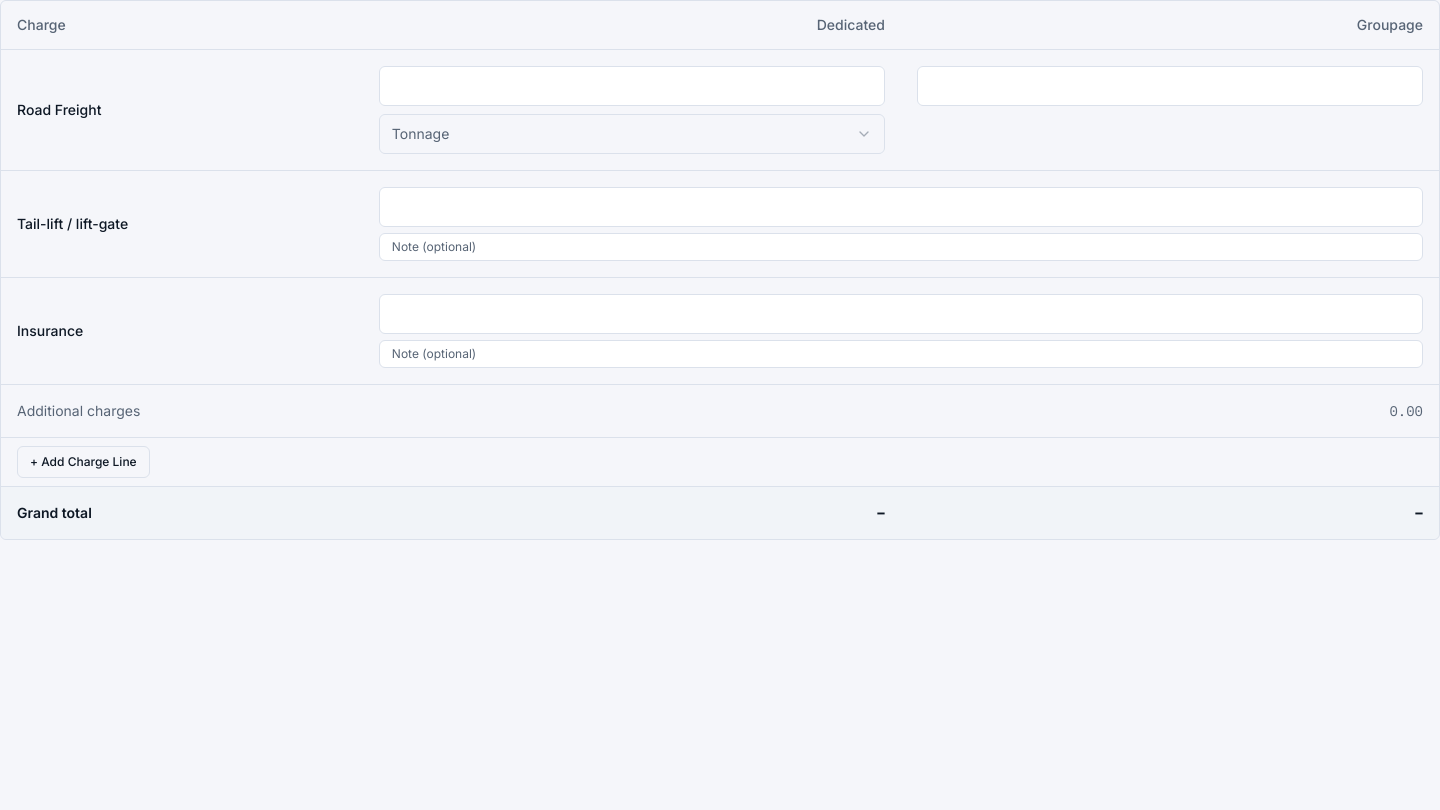
Test: ChargeMatrix — "Add Charge Line" (design D1/#6) › a custom row's amount folds into the Additional-charges subtotal and every variant's Grand total
The image size is (1440, 810).
Type "500" into the number field named "road freight — dedicated".
click(632, 86); type("500")  # box [379,66,885,106]
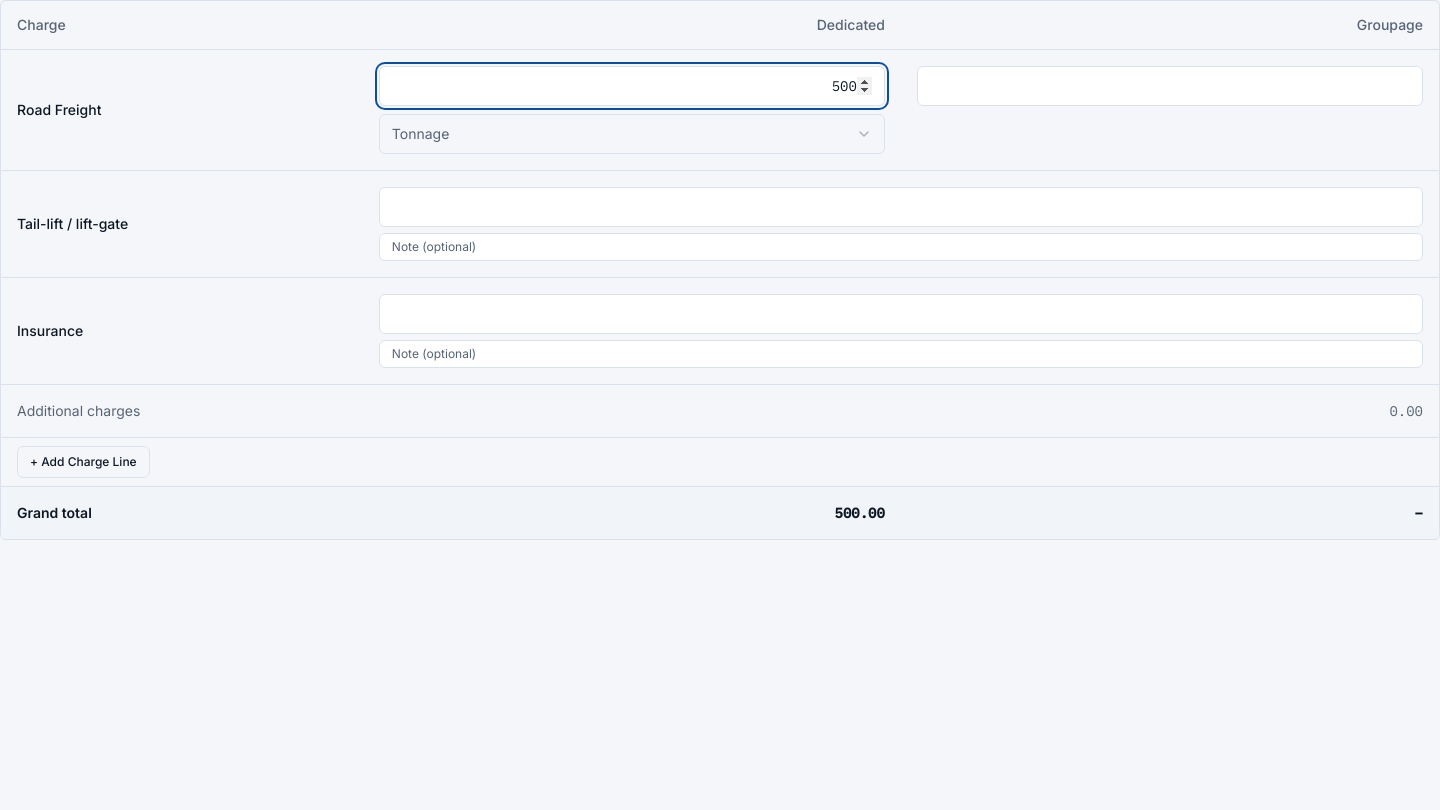
Type "300" into the number field named "road freight — groupage".
click(1170, 86); type("300")  # box [917,66,1423,106]
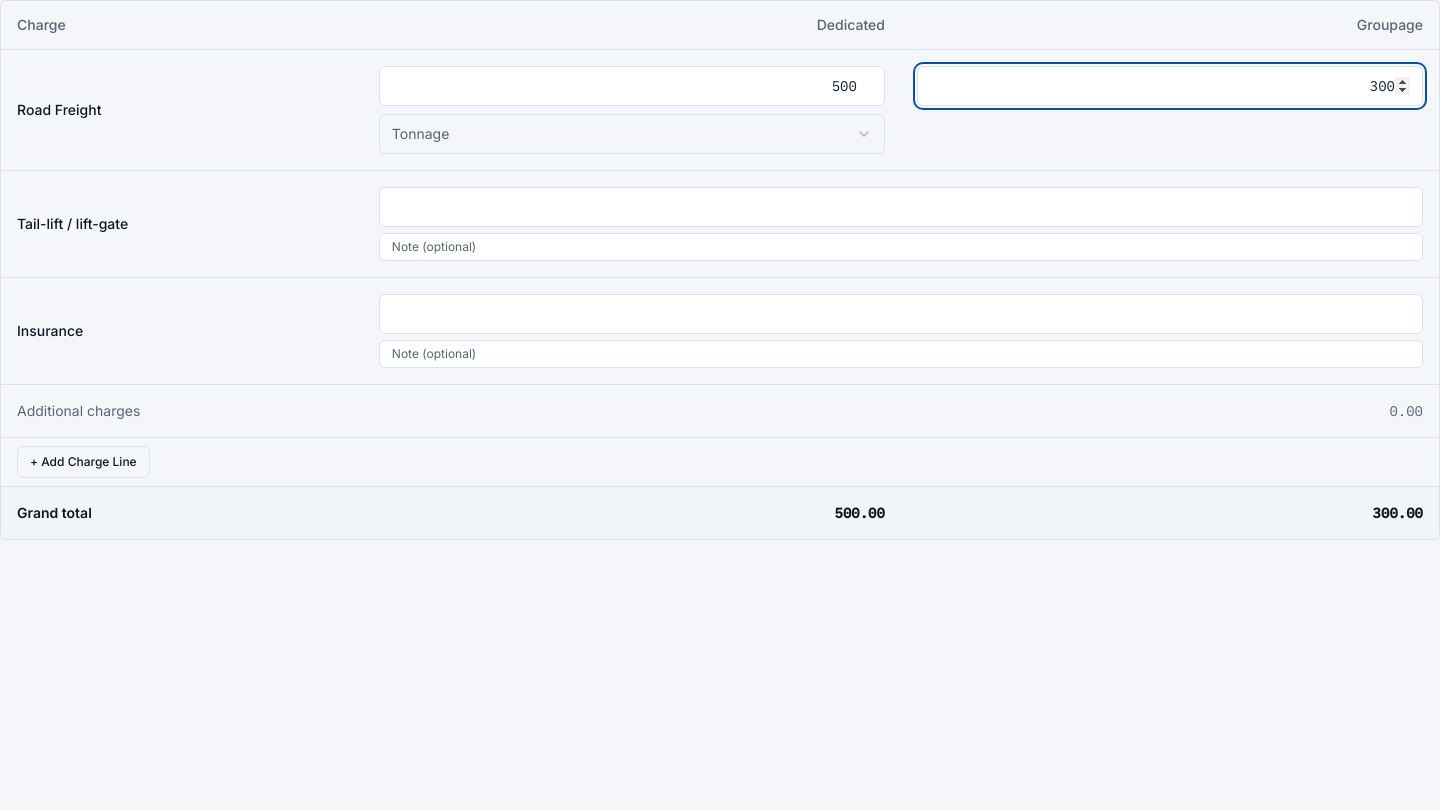
Click the button "+ Add Charge Line".
click(83, 462)  # box [17,446,150,478]
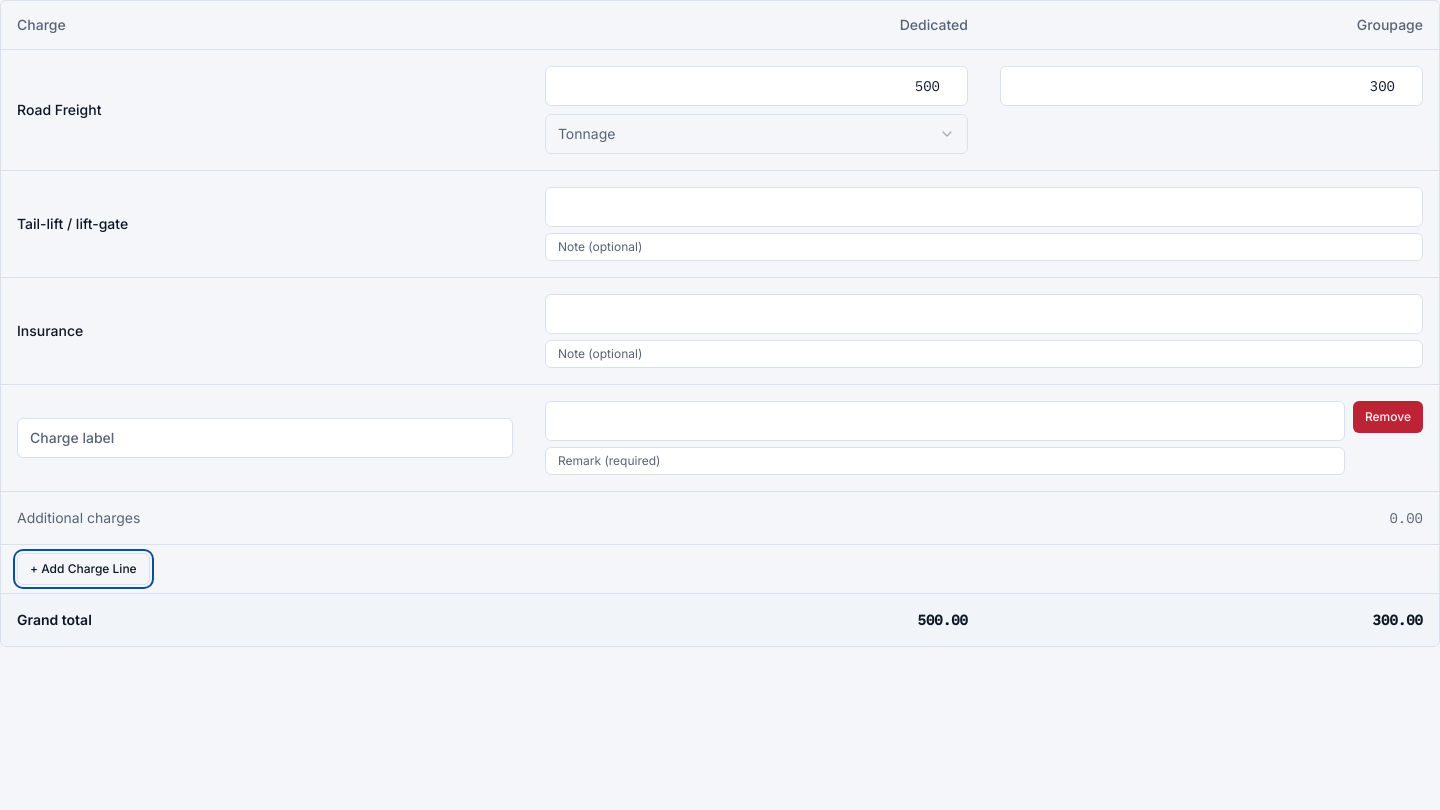
Type "60" into the number field named "custom charge 1 amount".
click(945, 420); type("60")  # box [545,400,1345,440]
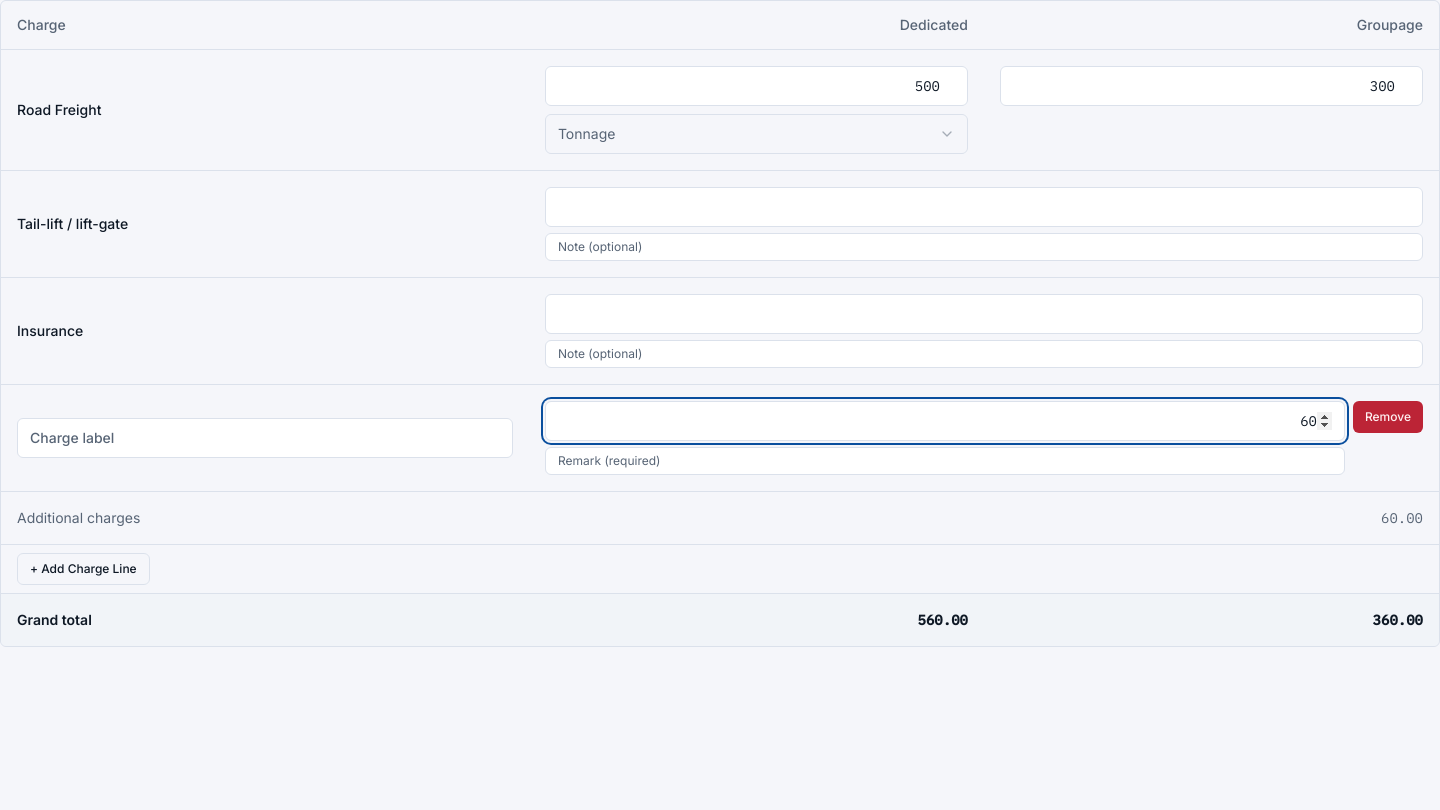
Expected: the cell with test id "chargematrix-additional-subtotal" reads "60.00", [1381,508,1423,526]
Expected: the cell with test id "chargematrix-total-DEDICATED" reads "560.00", [918,610,968,628]
Expected: the cell with test id "chargematrix-total-GROUPAGE" reads "360.00", [1373,610,1423,628]
